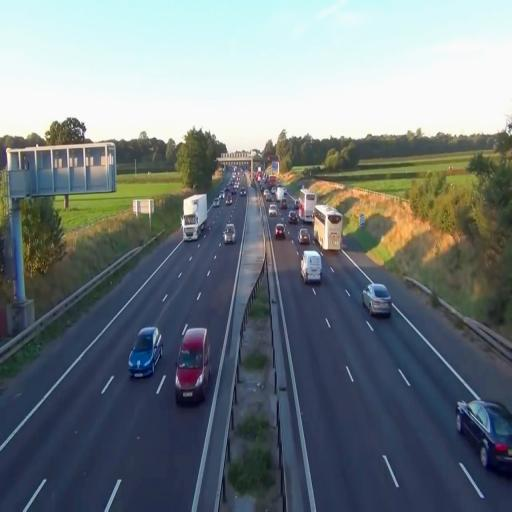vehicle: (456, 397, 512, 476), (456, 400, 511, 469), (175, 325, 211, 405), (175, 326, 211, 405), (175, 328, 209, 403), (128, 326, 162, 378), (128, 327, 161, 377), (313, 204, 343, 253), (312, 205, 341, 250), (182, 193, 208, 241), (182, 194, 208, 240), (181, 195, 206, 241), (363, 281, 392, 318), (362, 284, 391, 317), (300, 250, 322, 283), (300, 251, 321, 283), (298, 189, 315, 222), (224, 221, 236, 244), (222, 224, 234, 243), (274, 224, 286, 239), (297, 229, 309, 244), (274, 224, 284, 239), (288, 210, 297, 223), (275, 187, 283, 201), (268, 205, 276, 216), (268, 175, 275, 187), (263, 190, 270, 201), (226, 194, 232, 206), (280, 198, 286, 209), (212, 198, 219, 207), (254, 172, 260, 182), (294, 200, 299, 210), (230, 186, 235, 195), (240, 188, 245, 196), (282, 187, 286, 196), (270, 187, 275, 194), (219, 191, 223, 199), (260, 183, 264, 191), (224, 187, 228, 195)
